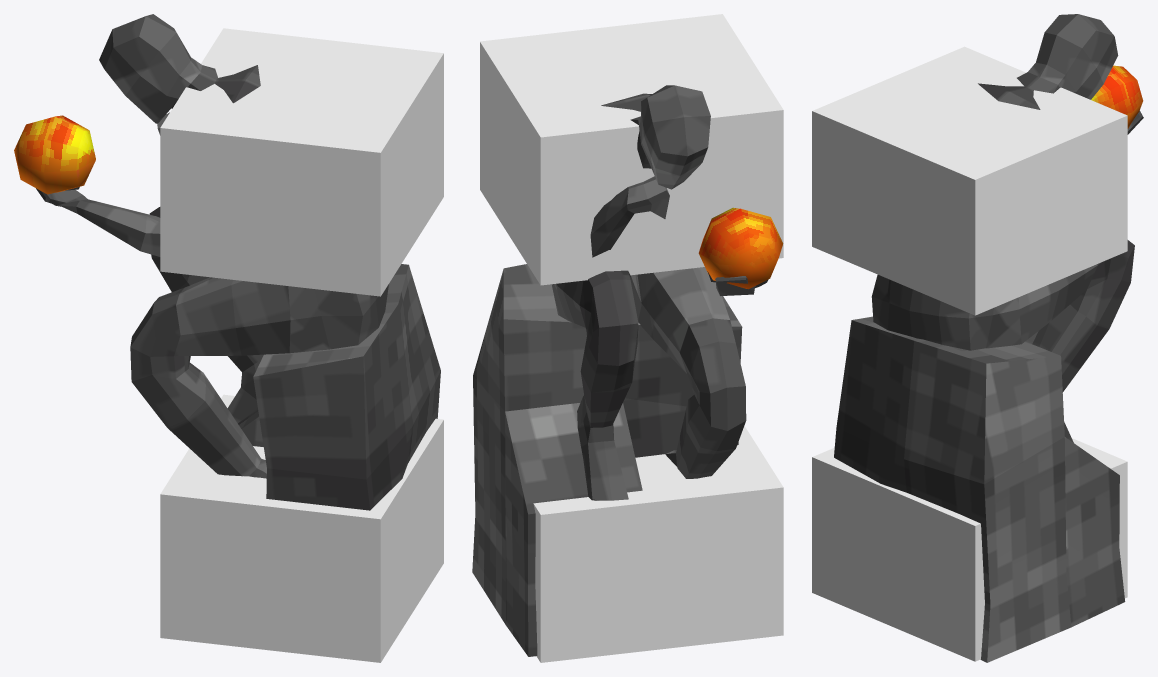
The model's file is Statue (2).fbx.
The picture shows the model from 3 angles, left to right: view 1: azimuth 30°, elevation 25°; view 2: azimuth 150°, elevation 25°; view 3: azimuth 270°, elevation 25°; orthographic projection. The views are drawn at different scales.
Visible parts, largest first — view 1: Statue (2), Cube, Cube (1), Sphere_8; view 2: Statue (2), Cube, Cube (1), Sphere_8; view 3: Statue (2), Cube, Cube (1), Sphere_8.
Part boxes in pixels (bbox=[...]): Statue (2): bbox=[36, 14, 440, 510]; Cube: bbox=[160, 28, 443, 296]; Cube (1): bbox=[160, 394, 443, 662]; Sphere_8: bbox=[14, 115, 95, 194]; Statue (2): bbox=[472, 85, 768, 656]; Cube: bbox=[480, 14, 783, 285]; Cube (1): bbox=[533, 426, 783, 662]; Sphere_8: bbox=[698, 207, 783, 289]; Statue (2): bbox=[834, 14, 1143, 662]; Cube: bbox=[812, 46, 1127, 315]; Cube (1): bbox=[812, 438, 1127, 661]; Sphere_8: bbox=[1091, 65, 1143, 128].
Bounding box in the file's own units: 5.24 × 7.9 × 4.43.
Materials: 3 (2 with a texture image).
